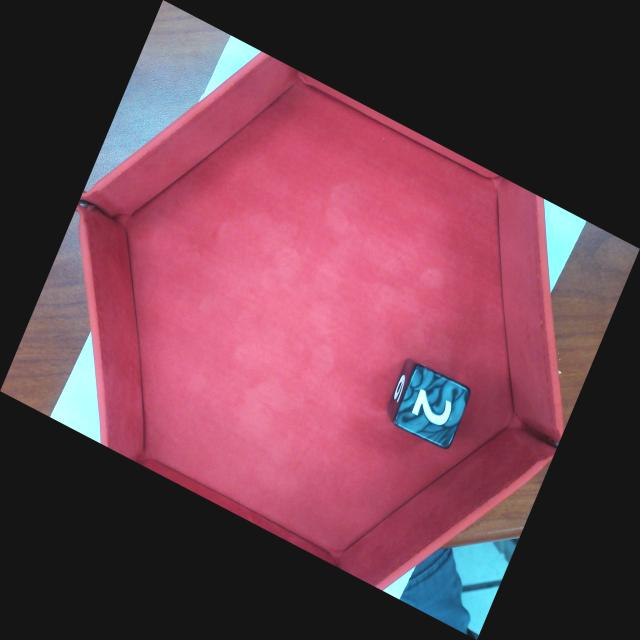dice: (399, 375, 470, 445)
